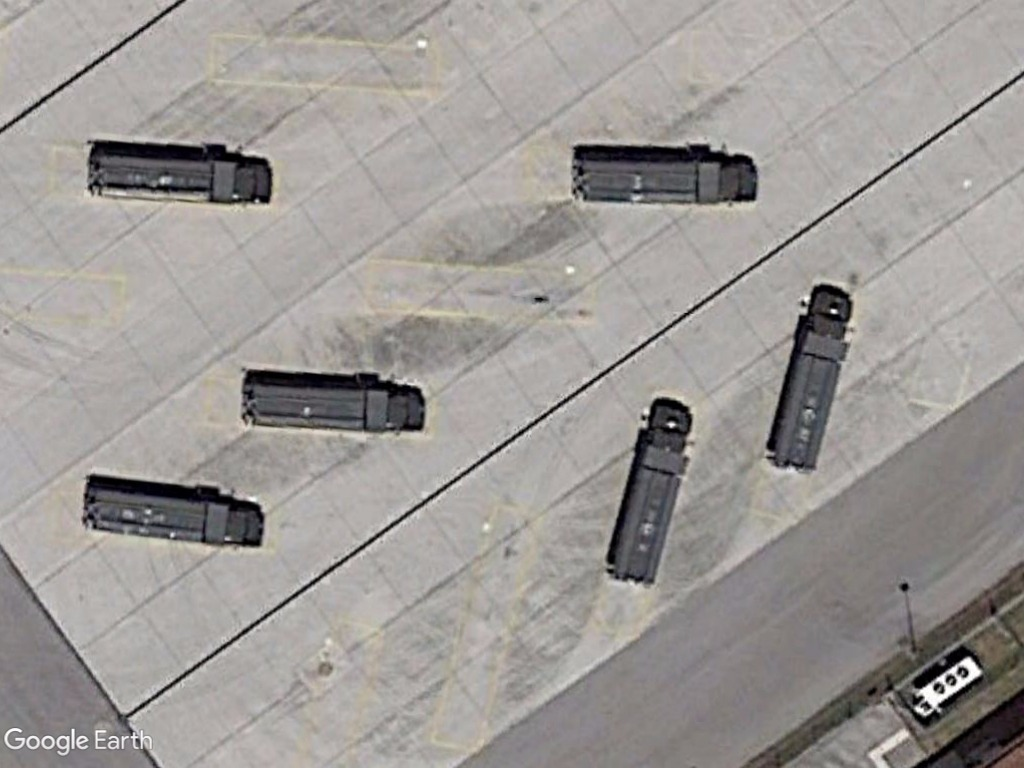truck: (764, 281, 857, 472), (602, 400, 696, 588), (78, 476, 271, 560), (83, 139, 284, 216), (564, 144, 762, 210), (237, 372, 431, 439)
